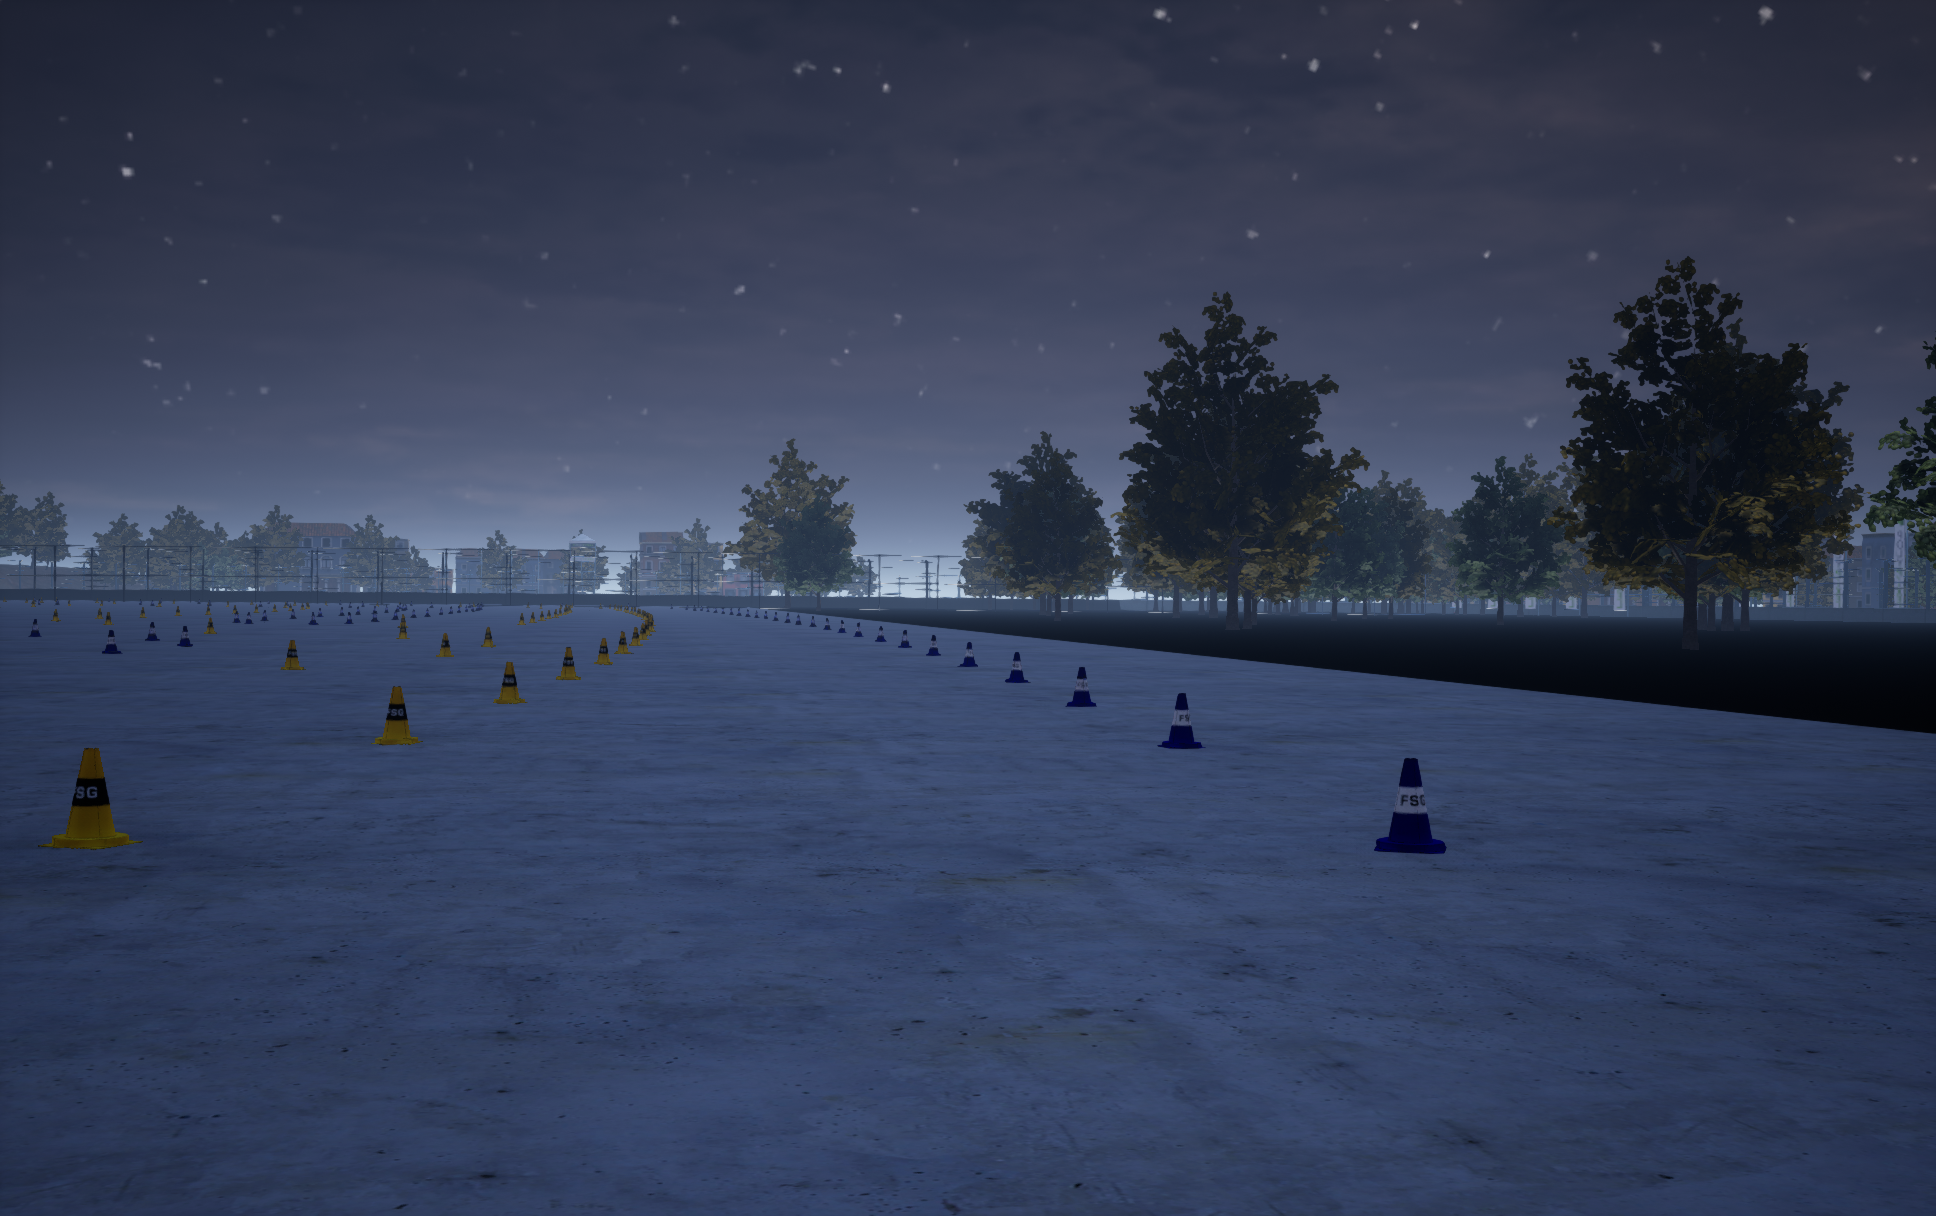blue: (38, 748, 141, 849), (371, 686, 422, 744), (493, 663, 527, 703), (556, 647, 580, 679), (280, 640, 305, 670), (594, 637, 612, 664), (614, 630, 633, 653), (436, 633, 452, 656), (480, 628, 495, 647), (629, 628, 642, 644)
yellow: (1374, 758, 1446, 853), (1157, 693, 1205, 748), (1065, 667, 1095, 706), (1004, 651, 1030, 682), (957, 642, 976, 665), (102, 630, 122, 653), (177, 626, 192, 646), (926, 635, 940, 656), (898, 630, 911, 647)
